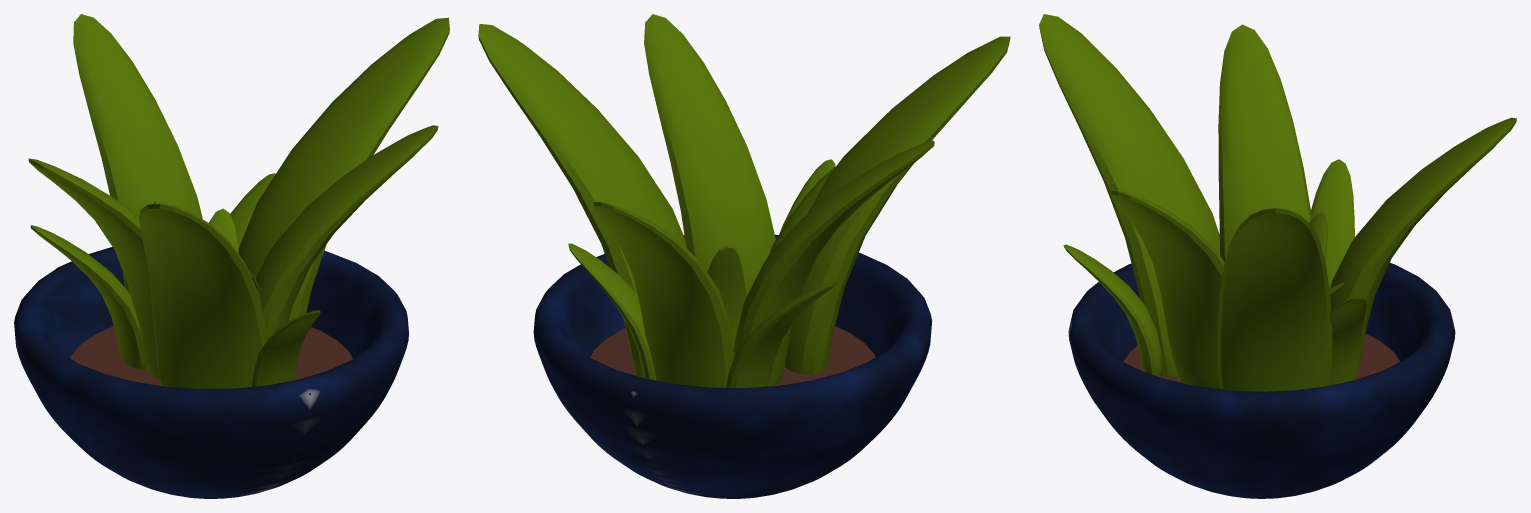
File: Plant1.fbx
3 views of the same model, side by side, from view 1: azimuth 30°, elevation 25°; view 2: azimuth 150°, elevation 25°; view 3: azimuth 270°, elevation 25° (orthographic). The views are drawn at different scales.
Parts seen in each view (by area): view 1: Plant1; view 2: Plant1; view 3: Plant1.
Part boxes in pixels (x1,y1,x2,y2): Plant1: (14,14,449,498); Plant1: (478,14,1010,498); Plant1: (1039,14,1516,498).
Bounding box in the file's own units: 51.42 × 45.1 × 50.14.
